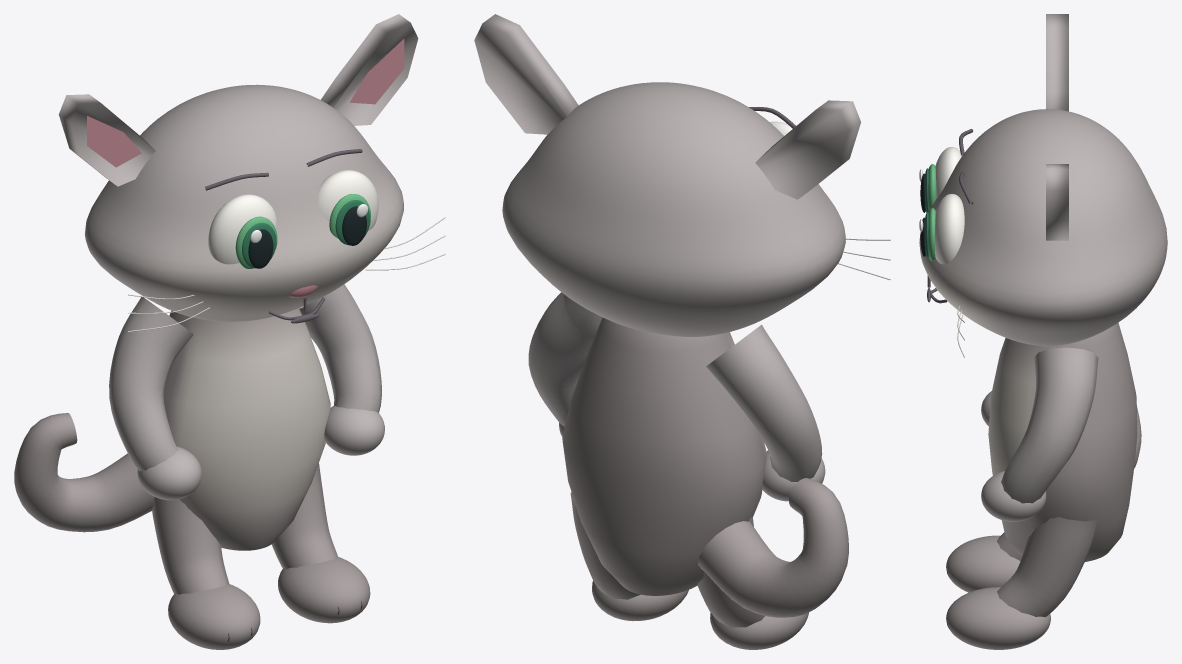
Rendered from mino_anim.glb.
3 views of the same model, side by side, from view 1: azimuth 30°, elevation 25°; view 2: azimuth 150°, elevation 25°; view 3: azimuth 270°, elevation 25° (orthographic). The views are drawn at different scales.
Visible parts, largest first — view 1: Tete_Sculptee, Corps_Pelage, Queue_Enroulee, Bras_G, Bras_D, Jambe_G, Pied_G, Pied_D, Oreille_D, Oreille_G, Jambe_D, Oeil_G_Blanc (+7 smaller); view 2: Tete_Sculptee, Corps_Pelage, Queue_Enroulee, Bras_G, Oreille_D, Oreille_G, Bras_D, Pied_G, Pied_D, Jambe_G, Jambe_D, Patte_G; view 3: Tete_Sculptee, Corps_Pelage, Bras_D, Jambe_D, Pied_D, Pied_G, Oreille_G, Oreille_D, Oeil_D_Blanc, Patte_D, Oeil_G_Blanc, Oeil_D_Iris.
Boxes of the visible parts, x1,y1,x2,y2 form: Tete_Sculptee: [84, 84, 403, 321]; Corps_Pelage: [164, 308, 330, 550]; Queue_Enroulee: [14, 413, 154, 532]; Bras_G: [109, 297, 193, 471]; Bras_D: [299, 284, 381, 412]; Jambe_G: [152, 497, 229, 594]; Pied_G: [168, 584, 260, 649]; Pied_D: [278, 557, 370, 623]; Oreille_D: [321, 14, 418, 125]; Oreille_G: [58, 94, 155, 186]; Jambe_D: [271, 463, 337, 568]; Oeil_G_Blanc: [208, 194, 276, 264]; Tete_Sculptee: [502, 82, 845, 336]; Corps_Pelage: [562, 317, 766, 595]; Queue_Enroulee: [698, 478, 848, 617]; Bras_G: [706, 324, 822, 481]; Oreille_D: [474, 14, 578, 134]; Oreille_G: [755, 100, 860, 199]; Bras_D: [528, 292, 602, 425]; Pied_G: [710, 612, 808, 649]; Pied_D: [592, 581, 688, 621]; Jambe_G: [697, 516, 764, 627]; Jambe_D: [570, 492, 640, 599]; Patte_G: [762, 450, 825, 501]; Tete_Sculptee: [919, 109, 1167, 345]; Corps_Pelage: [988, 322, 1137, 561]; Bras_D: [1001, 347, 1098, 503]; Jambe_D: [997, 517, 1097, 617]; Pied_D: [946, 587, 1050, 649]; Pied_G: [946, 535, 1020, 592]; Oreille_G: [1046, 14, 1068, 111]; Oreille_D: [1046, 164, 1068, 240]; Oeil_D_Blanc: [934, 194, 964, 264]; Patte_D: [981, 471, 1046, 521]; Oeil_G_Blanc: [935, 147, 961, 198]; Oeil_D_Iris: [928, 208, 935, 261].
Bounding box in the file's own units: 2.41 × 3.43 × 1.47.
